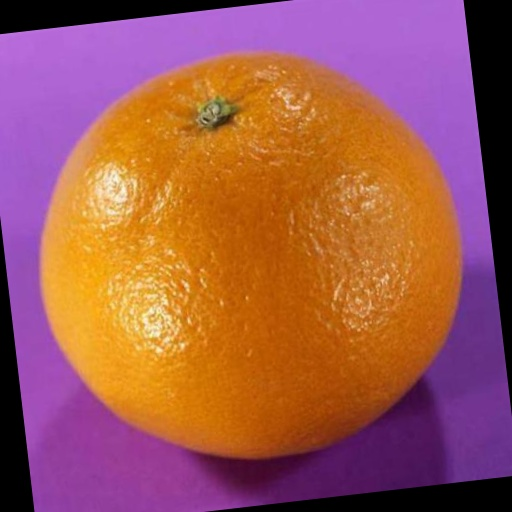fruit: (41, 53, 460, 458)
